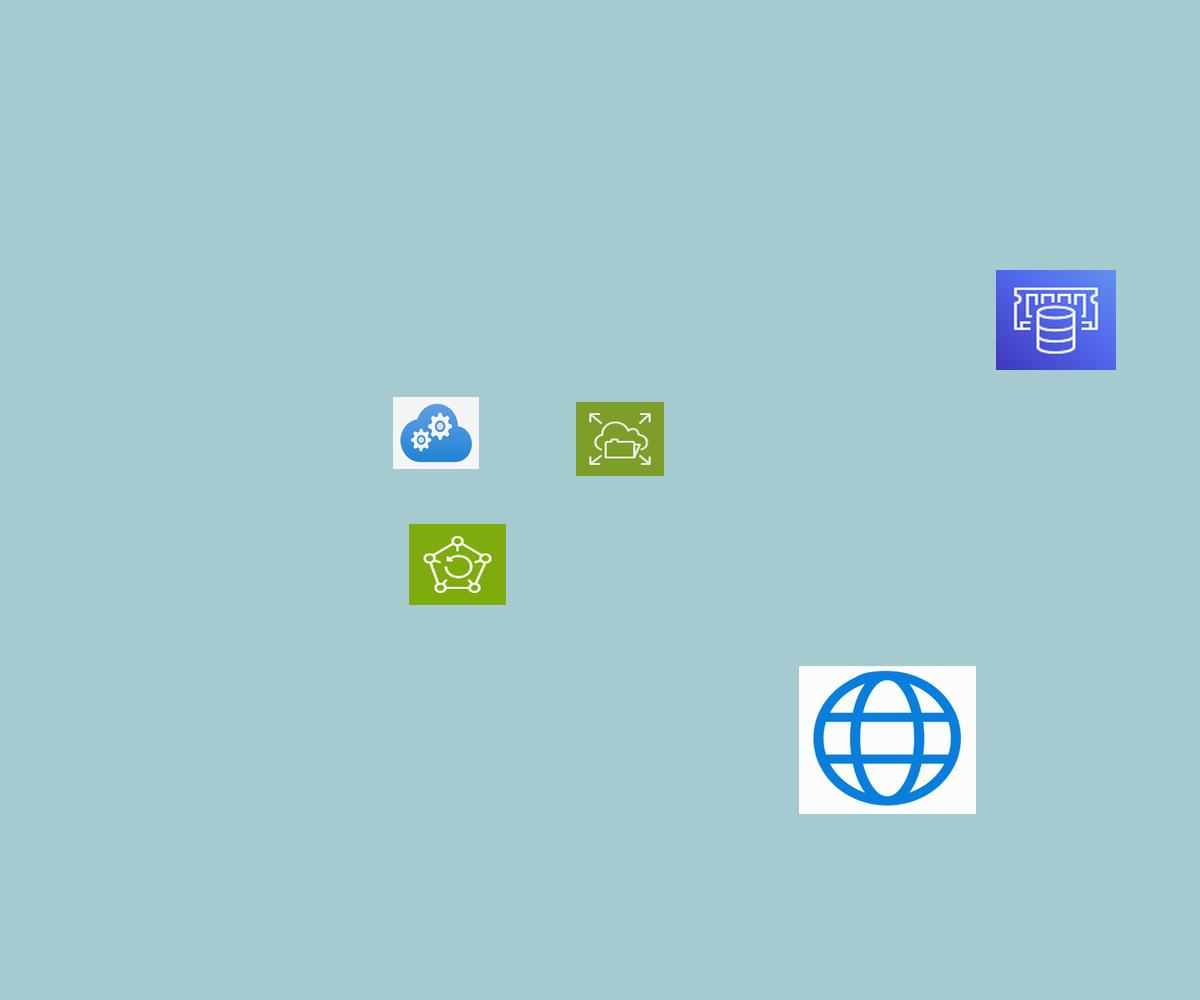AWS-Backup: (409, 524, 506, 605)
AWS-EFS: (576, 402, 664, 476)
AWS-ElastiCache: (996, 270, 1116, 370)
Azure_cloud_services: (393, 397, 479, 469)
Azure_http: (799, 666, 976, 814)
